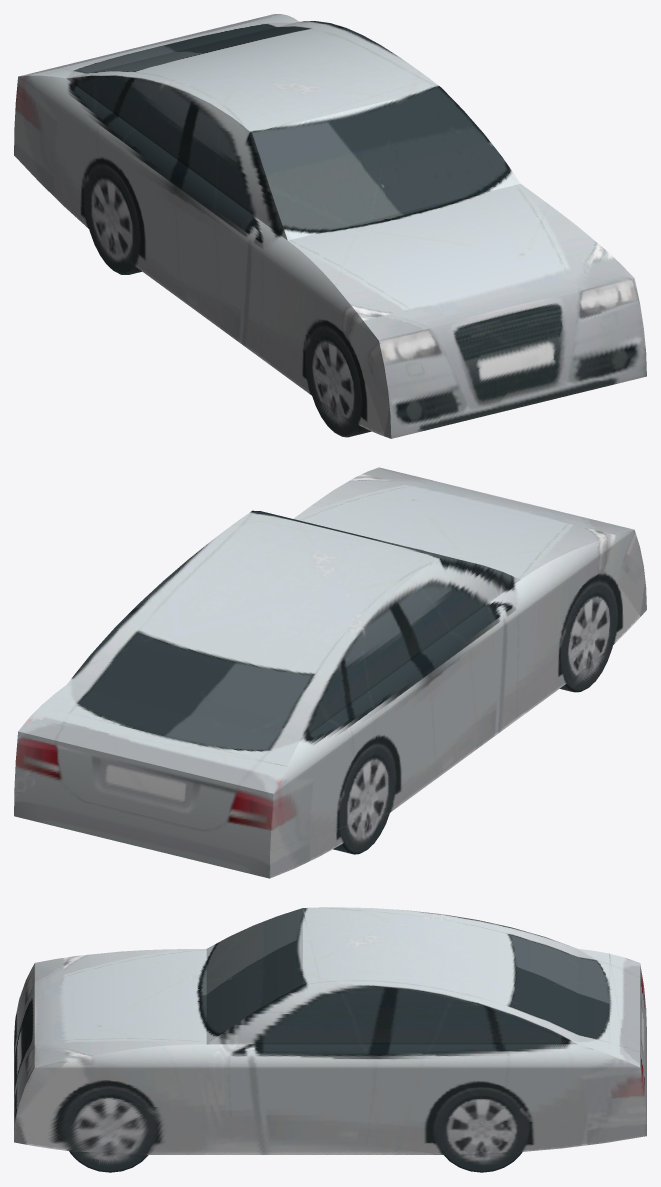
Rendered from car.dae.
3 renders of one model, top to bottom at view 1: azimuth 30°, elevation 25°; view 2: azimuth 150°, elevation 25°; view 3: azimuth 270°, elevation 25°, orthographic. The views are drawn at different scales.
Parts seen in each view (by area): view 1: node_id3; view 2: node_id3; view 3: node_id3.
Part boxes in pixels (x1,y1,x2,y2): node_id3: (14, 14, 646, 438); node_id3: (14, 467, 646, 878); node_id3: (14, 907, 646, 1172).
Bounding box in the file's own units: 18 × 46 × 14.07.
1 material, 1 textured.
